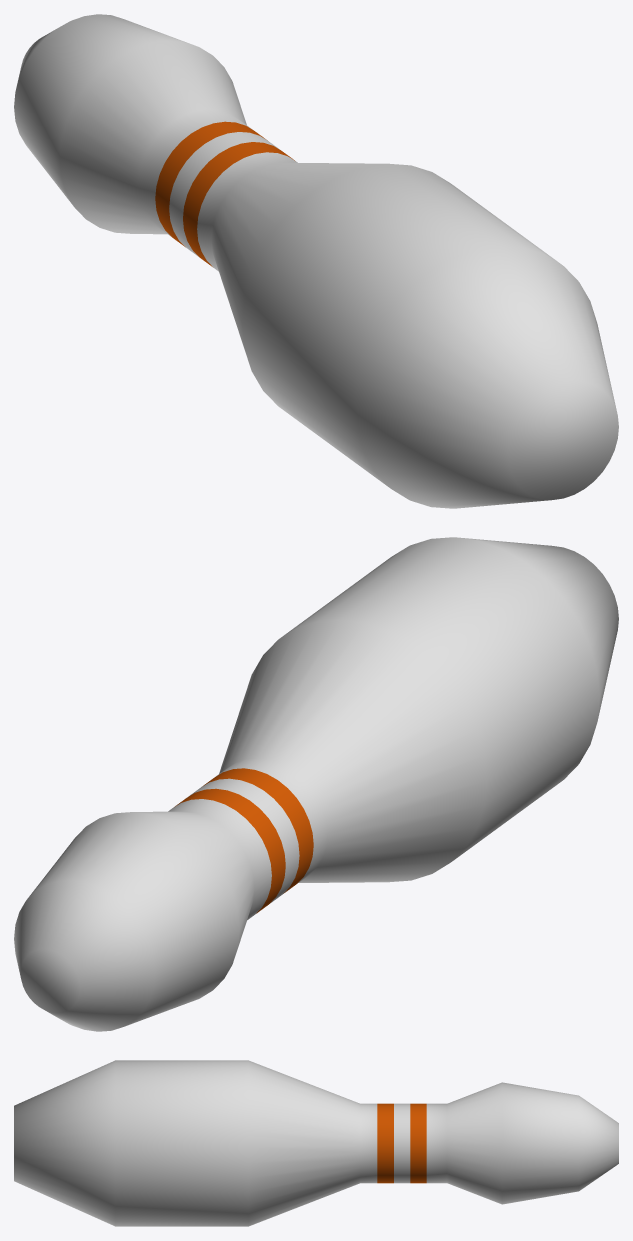
The model's file is item-bowling-pin.glb.
3 views of the same model, one above another, from view 1: azimuth 30°, elevation 25°; view 2: azimuth 150°, elevation 25°; view 3: azimuth 270°, elevation 25° (orthographic). The views are drawn at different scales.
Bounding box in the file's own units: 4.4 × 4.4 × 16.02.
